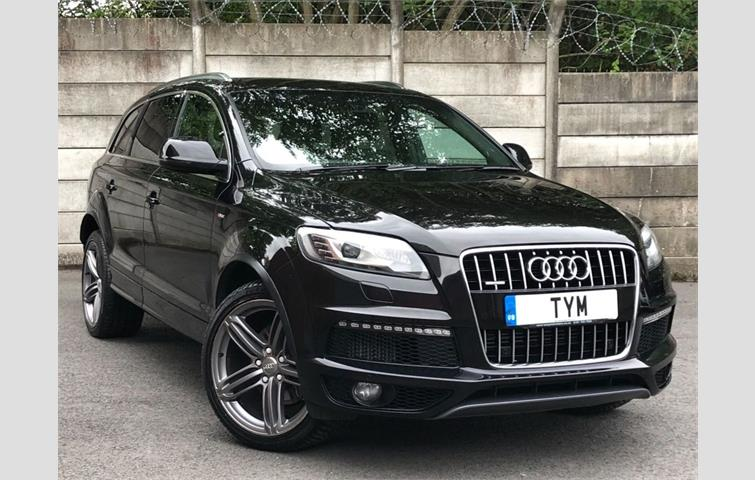audi: (523, 251, 592, 284)
